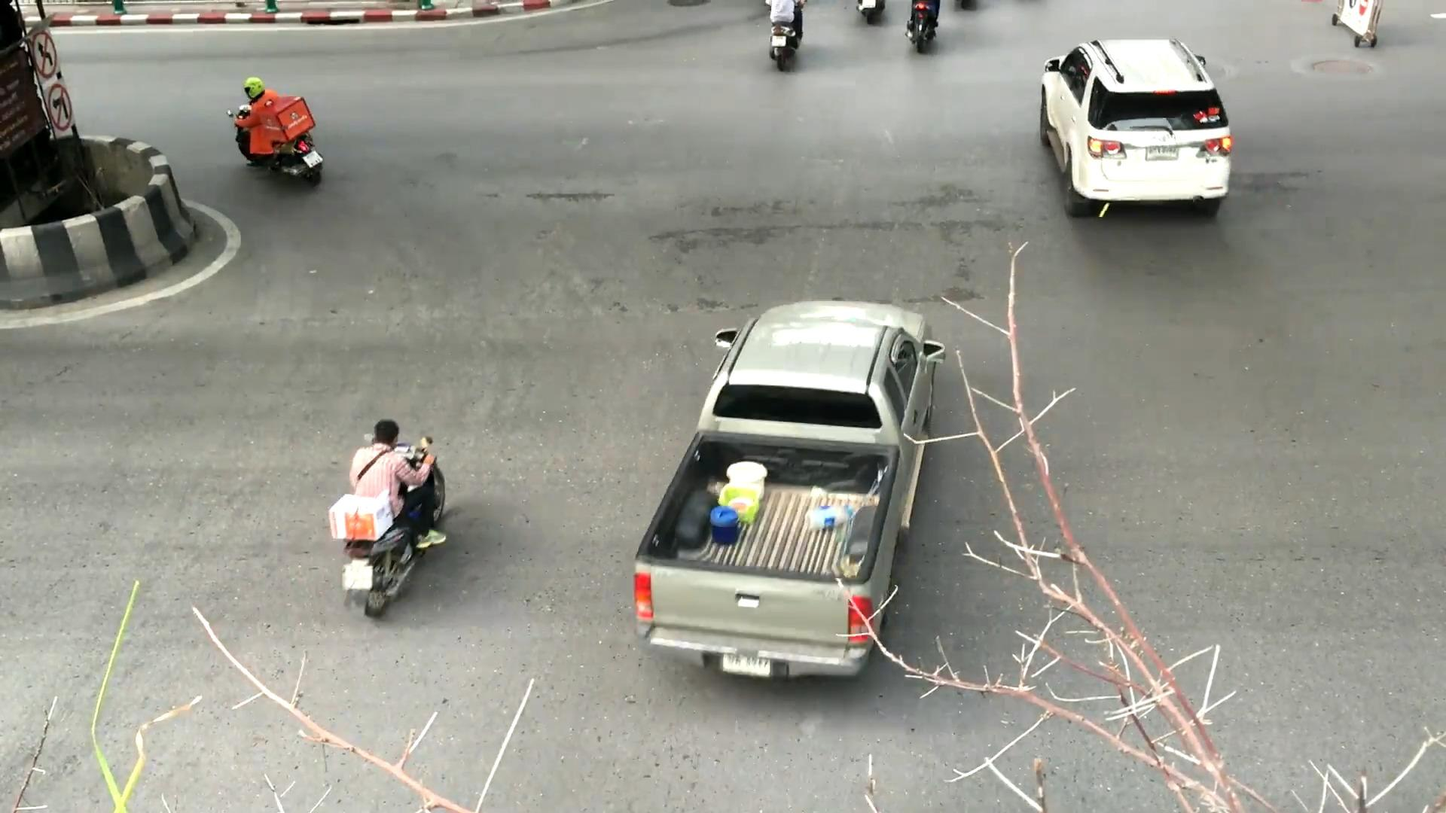driver: (329, 420, 446, 618), (226, 76, 324, 188), (764, 0, 808, 71)
helmet: (244, 76, 265, 102)
no-helmet: (375, 420, 399, 451)
